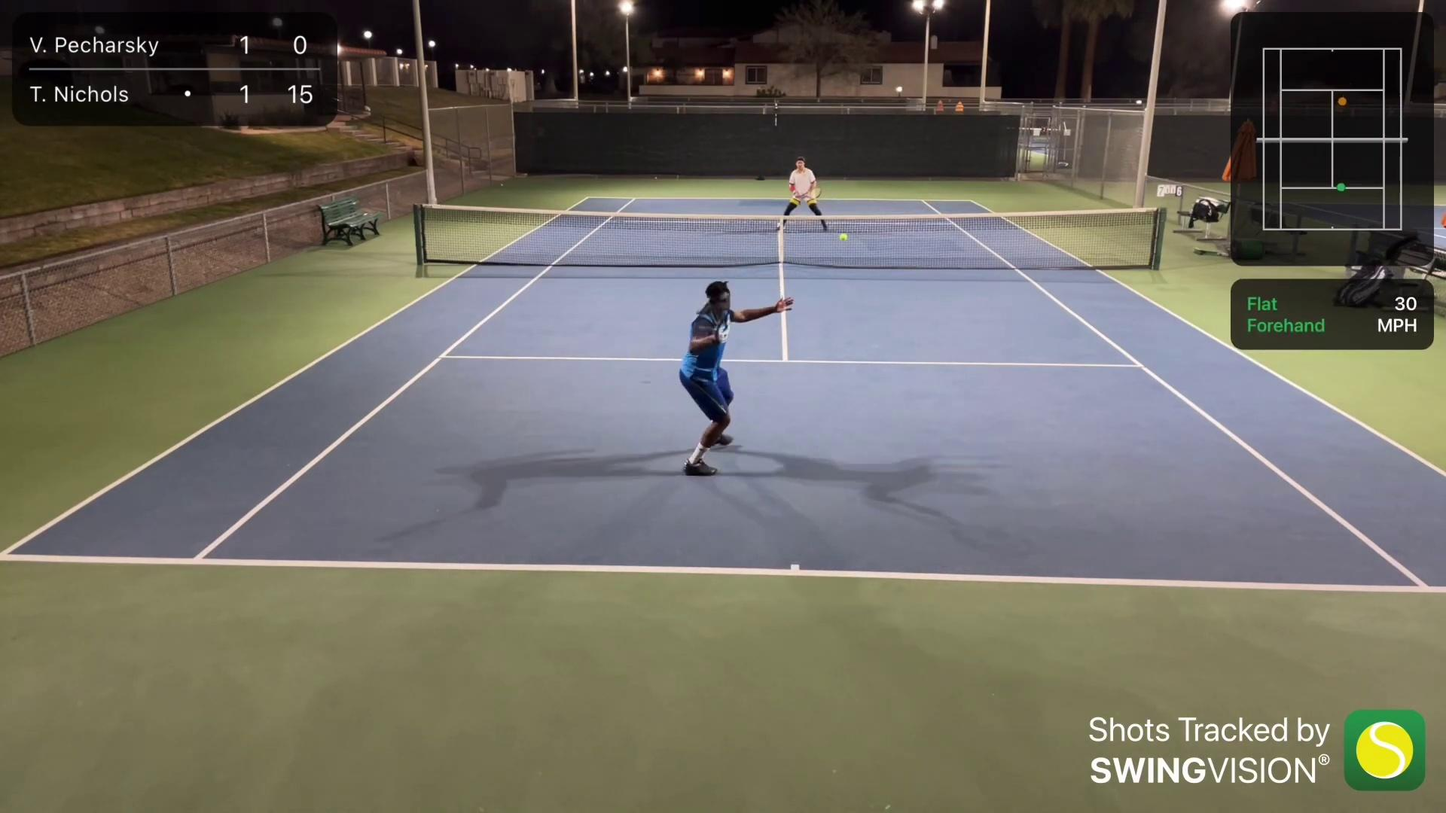ball: (839, 230, 847, 242)
